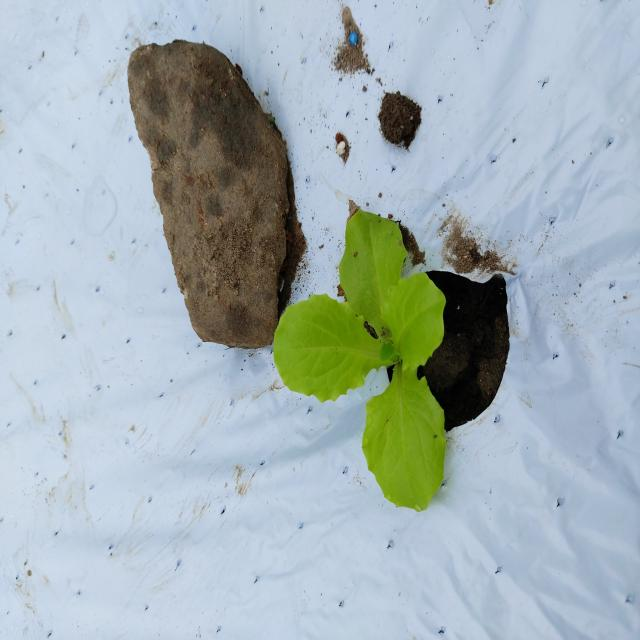Lettuce-Not-Ready-to-Harvest: (276, 198, 445, 507)
